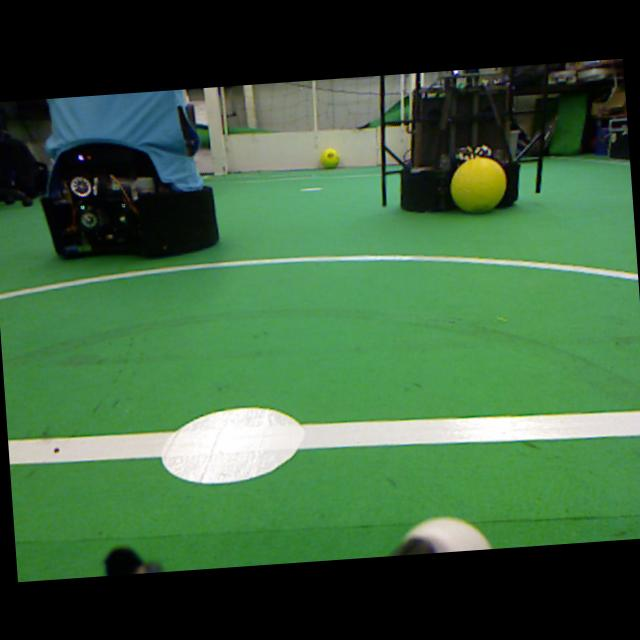ball: (449, 157, 506, 213), (320, 149, 339, 167)
goal: (204, 87, 226, 175)
robot: (400, 68, 520, 213)
